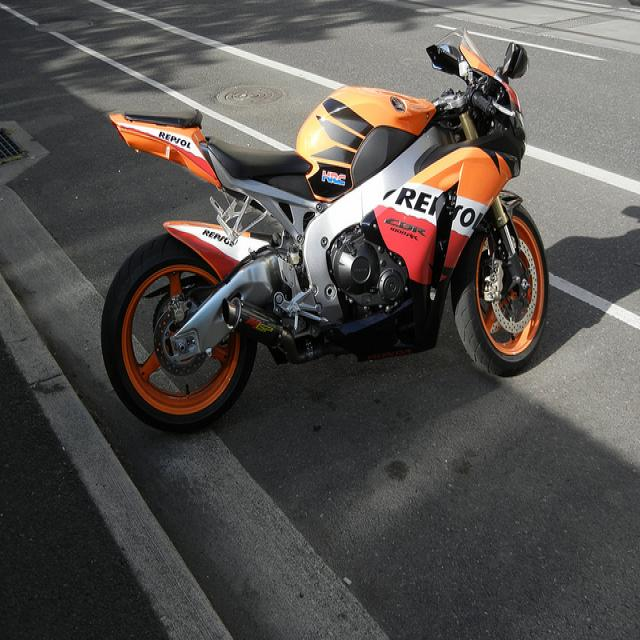motor: (99, 40, 553, 433)
